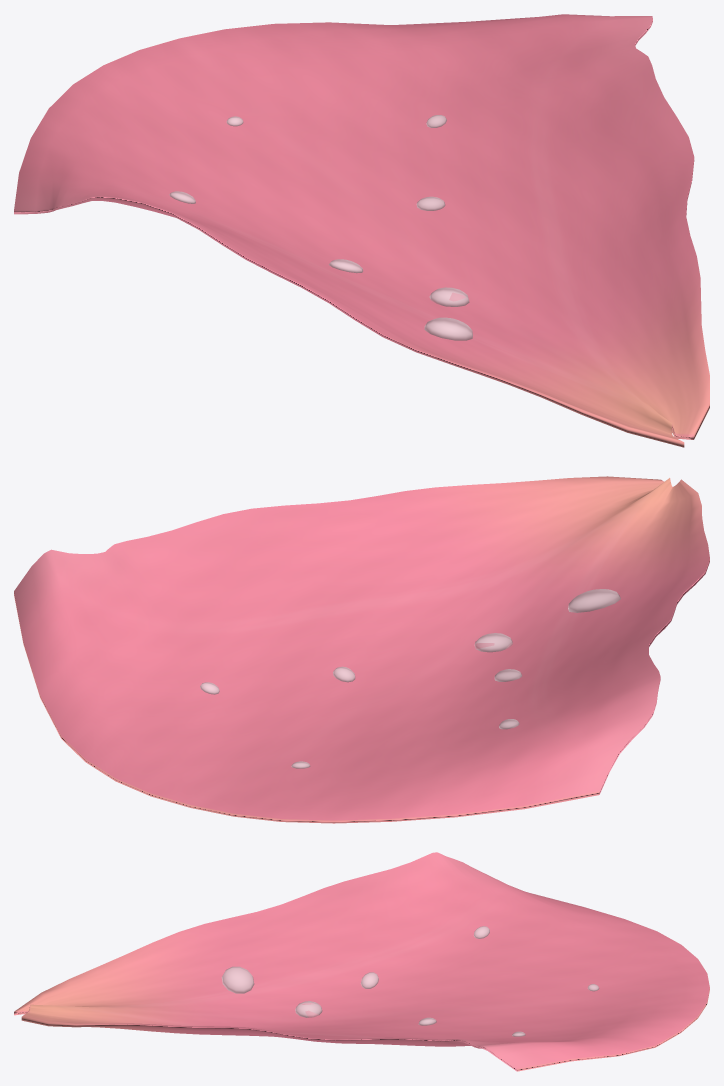
File: flower_petal_hero.glb
3 views of the same model, one above another, from view 1: azimuth 30°, elevation 25°; view 2: azimuth 150°, elevation 25°; view 3: azimuth 270°, elevation 25° (orthographic). The views are drawn at different scales.
Parts seen in each view (by area): view 1: FlowerPetalHero; view 2: FlowerPetalHero; view 3: FlowerPetalHero.
Part boxes in pixels (x1,y1,x2,y2): FlowerPetalHero: [14, 14, 709, 447]; FlowerPetalHero: [14, 476, 709, 823]; FlowerPetalHero: [14, 852, 709, 1071].
Bounding box in the file's own units: 1.58 × 0.2818 × 2.23.
2 materials, 1 textured.
